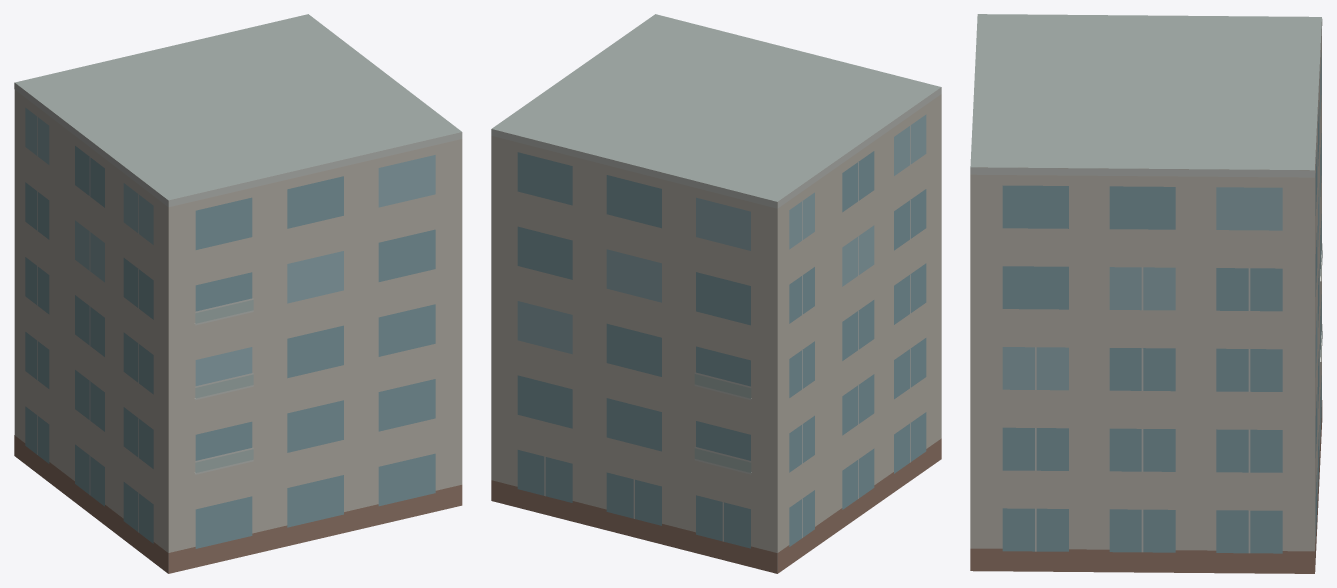
The model's file is survey-upis-32860287.glb.
The picture shows the model from 3 angles, left to right: view 1: azimuth 30°, elevation 25°; view 2: azimuth 150°, elevation 25°; view 3: azimuth 270°, elevation 25°; orthographic projection. The views are drawn at different scales.
Visible parts, largest first — view 1: survey-upis-32860287.tmp; view 2: survey-upis-32860287.tmp; view 3: survey-upis-32860287.tmp.
Part boxes in pixels (left/top/right/bottom): survey-upis-32860287.tmp: left=14, top=14, right=462, bottom=573; survey-upis-32860287.tmp: left=491, top=14, right=941, bottom=573; survey-upis-32860287.tmp: left=970, top=14, right=1322, bottom=573.
Size of the model in its own units: 10.96 by 13.2 by 10.45.
